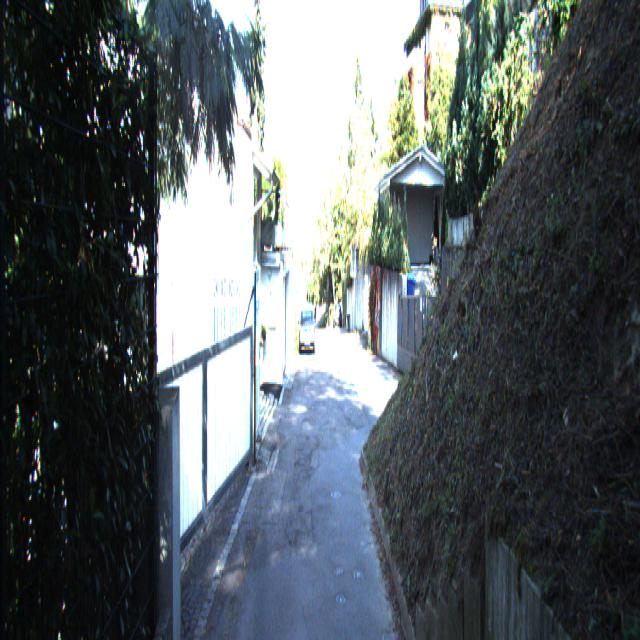Car: (299, 307, 315, 357)
